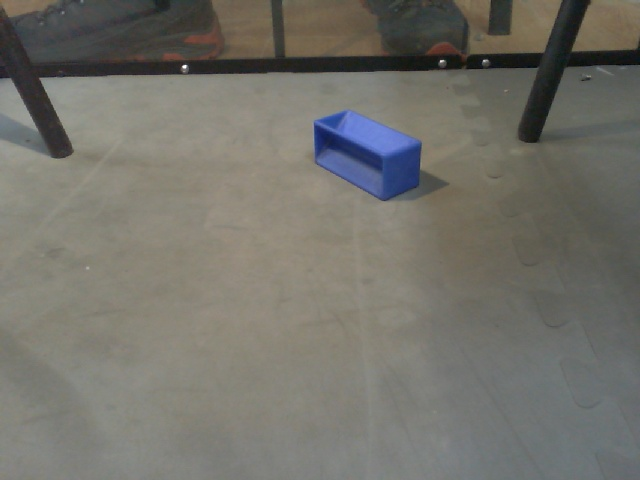BlueSample: (308, 106, 425, 203)
